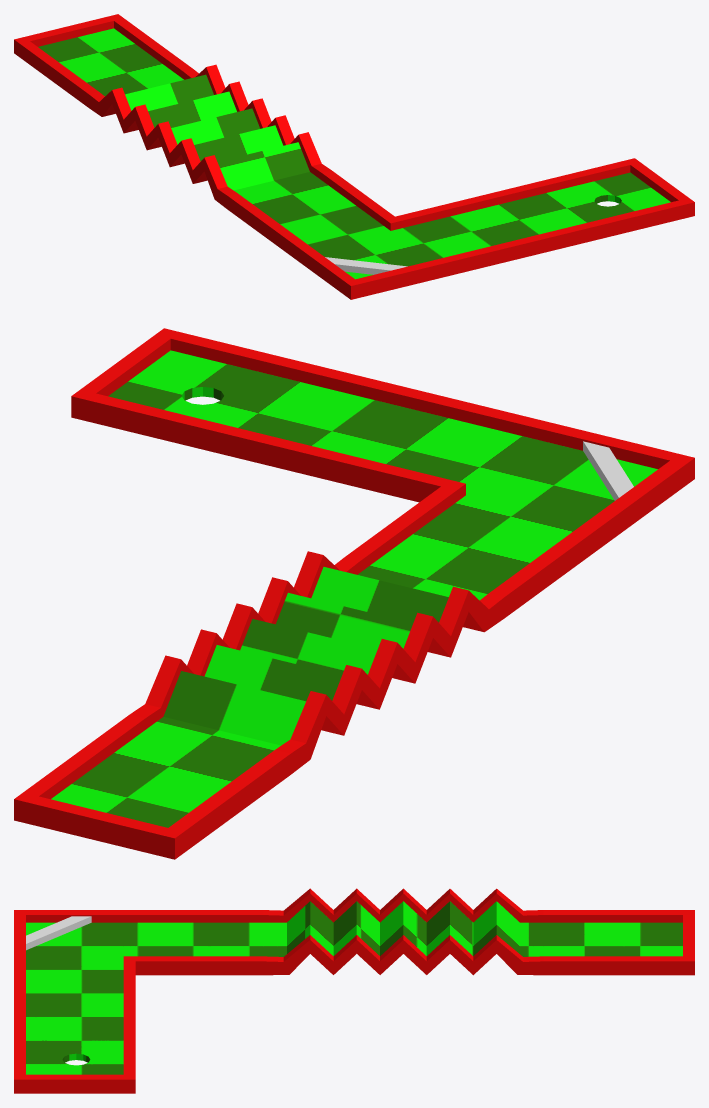
The model's file is ZickZacksBahn.fbx.
The picture shows the model from 3 angles, top to bottom: view 1: azimuth 30°, elevation 25°; view 2: azimuth 150°, elevation 25°; view 3: azimuth 270°, elevation 25°; orthographic projection. The views are drawn at different scales.
Visible parts, largest first — view 1: BahnF3_Track, BahnF3_Boundary, BahnF3_Extra; view 2: BahnF3_Track, BahnF3_Boundary, BahnF3_Extra; view 3: BahnF3_Track, BahnF3_Boundary, BahnF3_Extra.
Part boxes in pixels (left/top/right/bottom): BahnF3_Track: left=38, top=28, right=670, bottom=279; BahnF3_Boundary: left=14, top=14, right=694, bottom=299; BahnF3_Extra: left=325, top=257, right=407, bottom=274; BahnF3_Track: left=51, top=350, right=657, bottom=827; BahnF3_Boundary: left=14, top=328, right=694, bottom=859; BahnF3_Extra: left=583, top=441, right=633, bottom=500; BahnF3_Track: left=26, top=901, right=682, bottom=1074; BahnF3_Boundary: left=14, top=888, right=694, bottom=1093; BahnF3_Extra: left=26, top=916, right=91, bottom=950.
Size of the model in its own units: 287 by 28 by 487.
